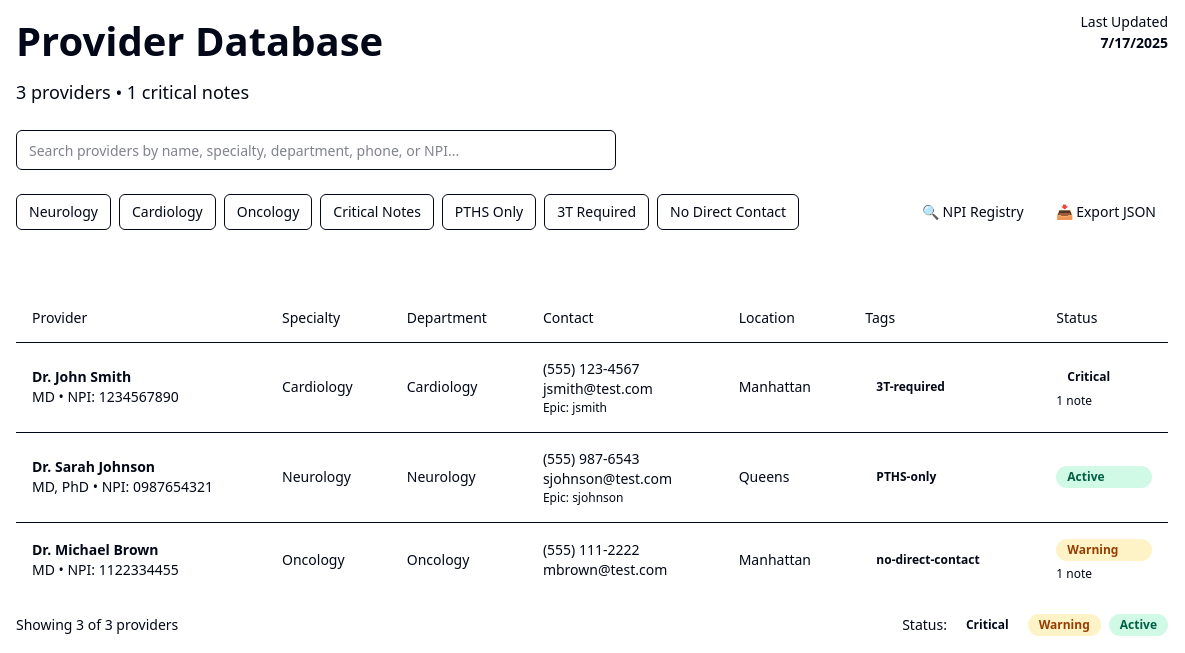
Test: Providers Page › Filter Functionality › filters by tag - 3T Required
Click the button "3T Required" at (597,212), box [544,194,649,230]
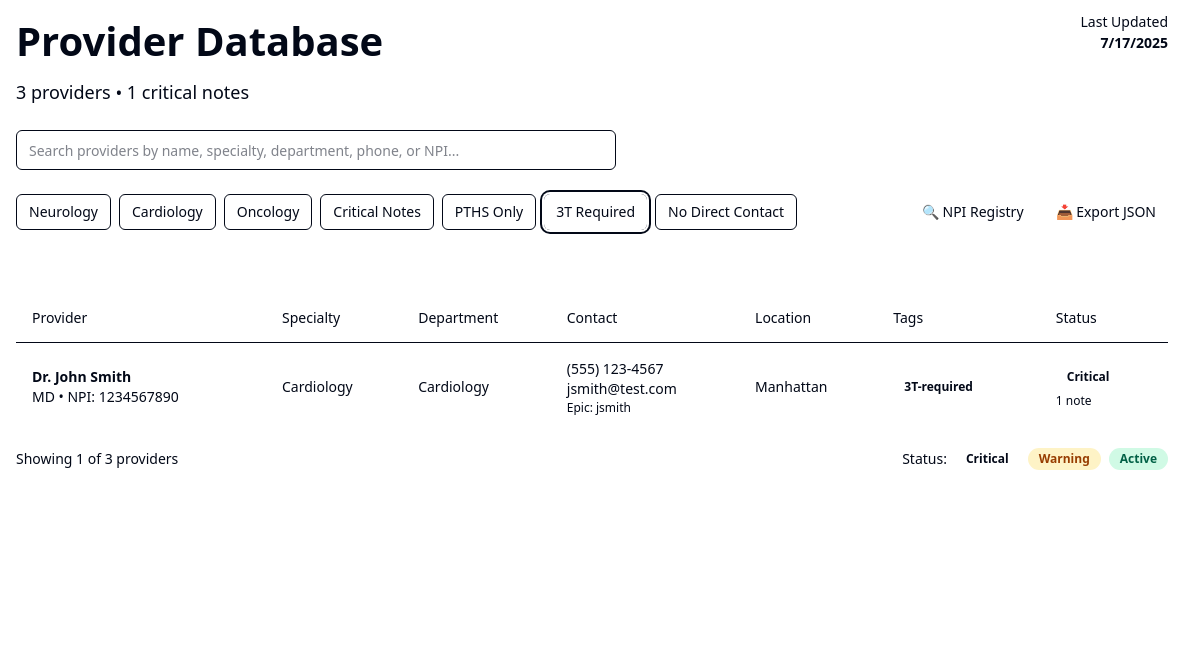
Expected: the text "Dr. John Smith" is shown, [32,367,131,386]
Now the text "Dr. Sarah Johnson" is gone
Now the text "Dr. Michael Brown" is gone
